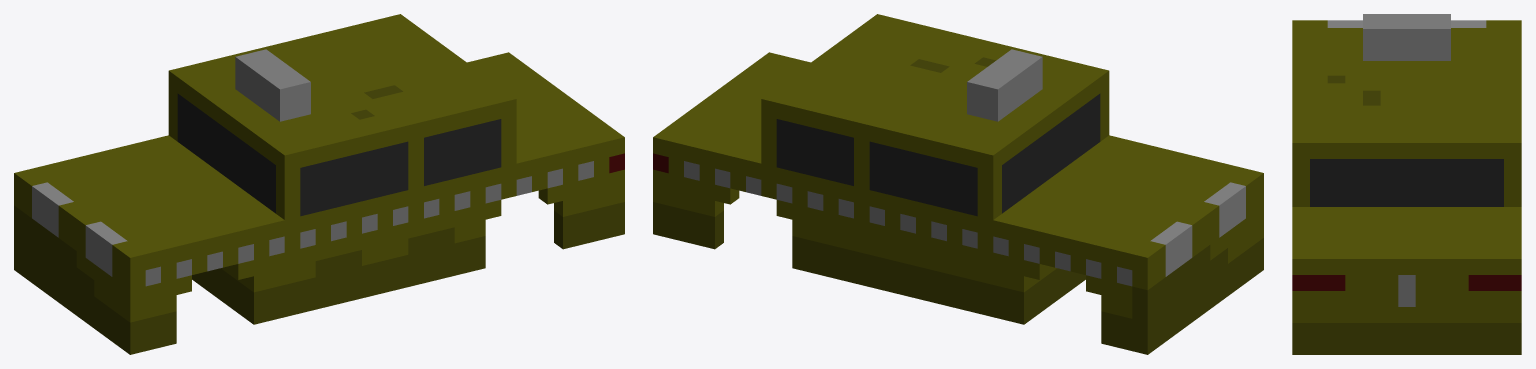
File: taxi1destroyed.obj
3 renders of one model, left to right at view 1: azimuth 30°, elevation 25°; view 2: azimuth 150°, elevation 25°; view 3: azimuth 270°, elevation 25°, orthographic.
Visible parts, largest first — view 1: taxi1destroyed; view 2: taxi1destroyed; view 3: taxi1destroyed.
Part boxes in pixels (x1,y1,x2,y2): taxi1destroyed: (14,14,624,354); taxi1destroyed: (653,14,1263,354); taxi1destroyed: (1292,14,1521,354).
Bounding box in the file's own units: 32 × 12 × 13.
Materials: 1 (1 with a texture image).
